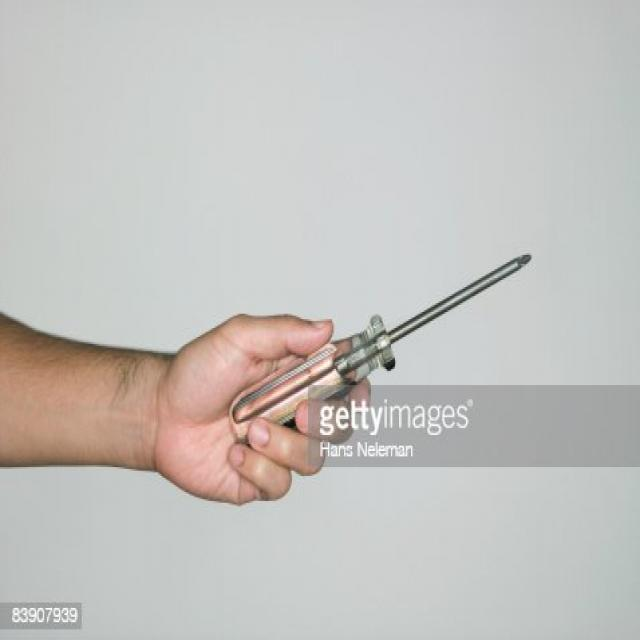screwdriver: (228, 250, 536, 445)
